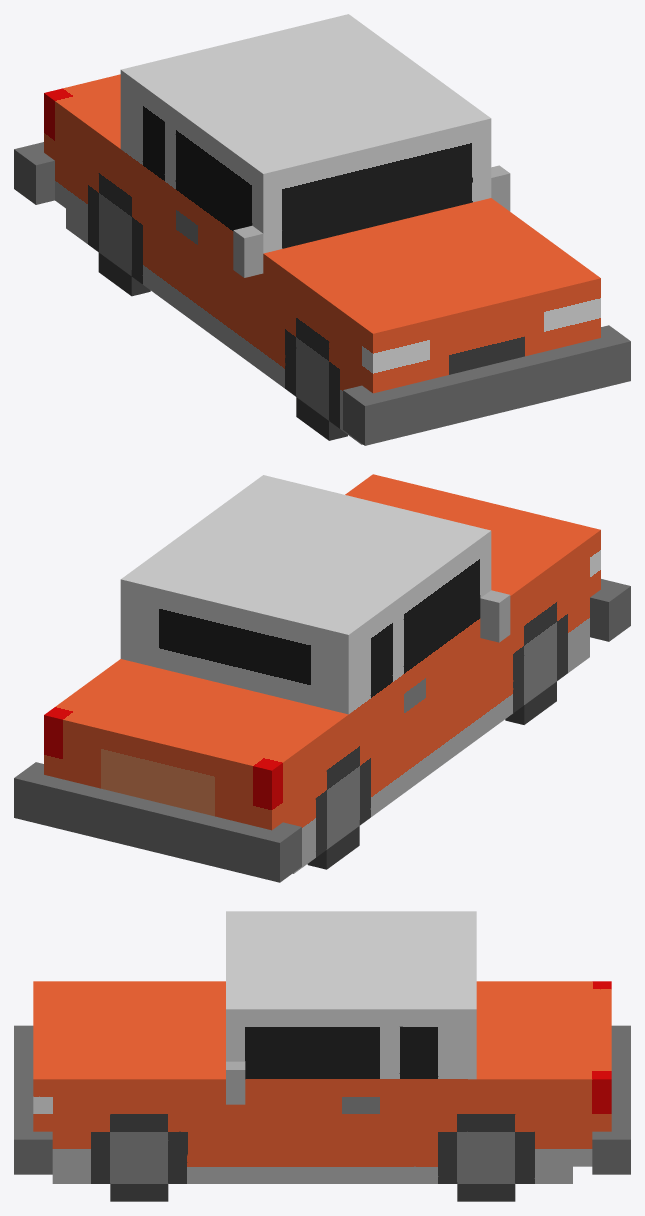
Rendered from veh_car4.dae.
The picture shows the model from 3 angles, top to bottom: view 1: azimuth 30°, elevation 25°; view 2: azimuth 150°, elevation 25°; view 3: azimuth 270°, elevation 25°; orthographic projection. The views are drawn at different scales.
Parts seen in each view (by area): view 1: veh_car4; view 2: veh_car4; view 3: veh_car4.
Part boxes in pixels (bbox=[...]): veh_car4: bbox=[14, 14, 630, 445]; veh_car4: bbox=[14, 474, 630, 882]; veh_car4: bbox=[14, 911, 630, 1201].
Bounding box in the file's own units: 1.4 × 3.2 × 1.1.
1 material, 1 textured.
